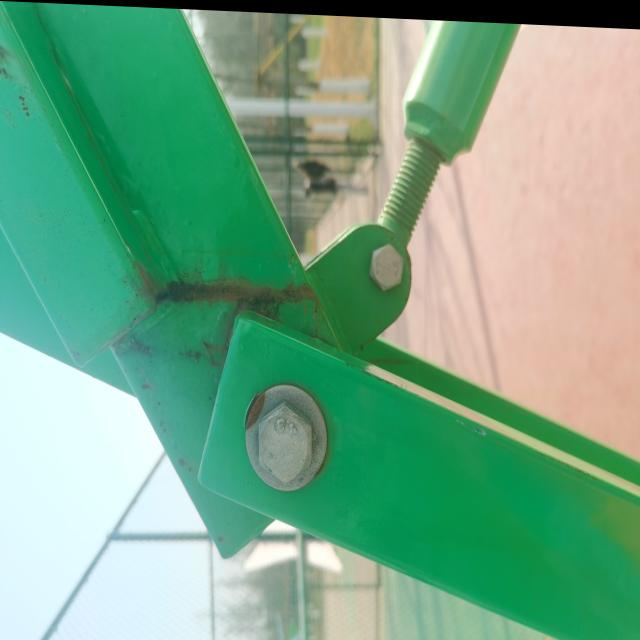Regular bolt: (257, 397, 313, 477), (371, 240, 406, 285)
